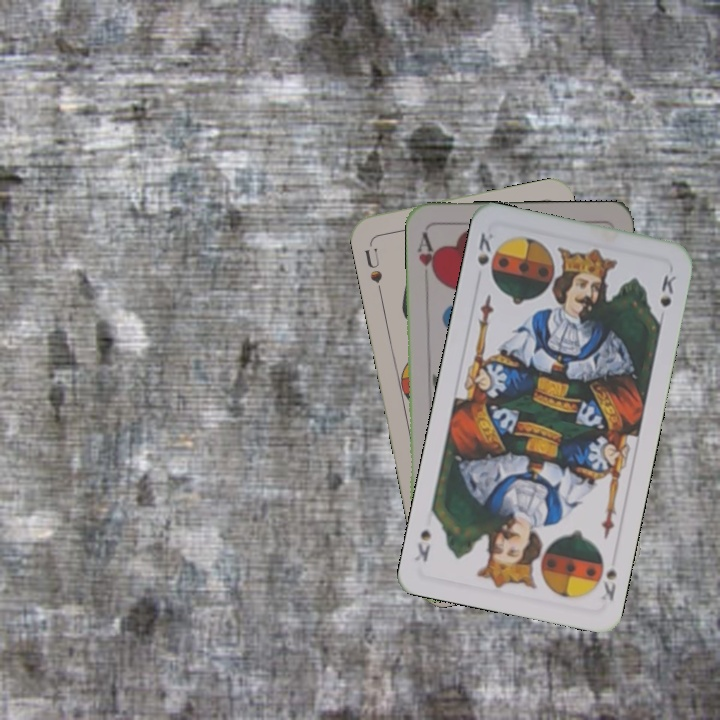HA: (413, 228, 440, 284)
SK: (597, 562, 620, 604), (473, 228, 496, 268)
SU: (360, 239, 385, 298)
